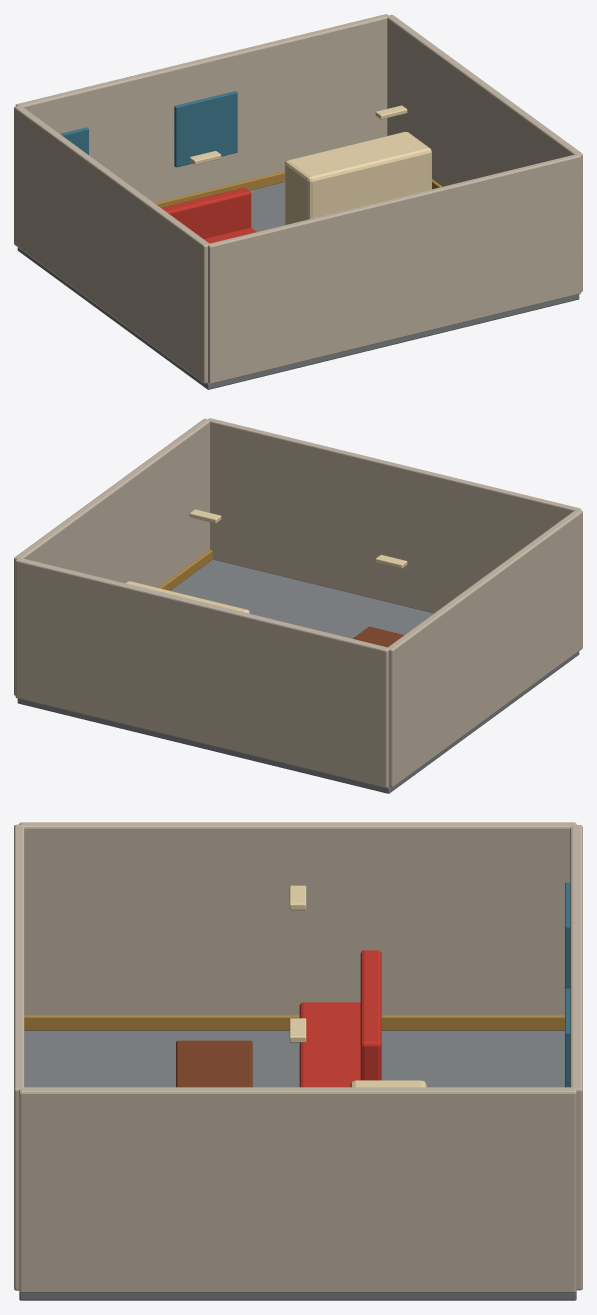
File: apartment_interior_recurring_a.glb
3 views of the same model, one above another, from view 1: azimuth 30°, elevation 25°; view 2: azimuth 150°, elevation 25°; view 3: azimuth 270°, elevation 25° (orthographic). The views are drawn at different scales.
Visible parts, largest first — view 1: CUTAWAY_FRONT, SET_Wall_Back, SET_Wall_Left, SET_Wall_Right, SET_KitchenIsland, SET_Floor, SET_Window_0, PROP_Sofa_Back, SET_Baseboard_Back; view 2: SET_Wall_Back, CUTAWAY_FRONT, SET_Wall_Left, SET_Wall_Right, SET_Floor, SET_Trim_Right, PROP_CoffeeTable, SET_KitchenIsland; view 3: SET_Wall_Right, SET_Wall_Left, SET_Floor, SET_Trim_Left, PROP_Sofa_Base, SET_Wall_Back, CUTAWAY_FRONT, PROP_CoffeeTable, PROP_Sofa_Back, SET_Window_-3.6.
Part boxes in pixels (bbox=[...]): CUTAWAY_FRONT: bbox=[208, 154, 581, 384]; SET_Wall_Back: bbox=[15, 14, 388, 202]; SET_Wall_Left: bbox=[14, 106, 209, 383]; SET_Wall_Right: bbox=[387, 14, 582, 291]; SET_KitchenIsland: bbox=[284, 131, 431, 224]; SET_Floor: bbox=[17, 182, 579, 389]; SET_Window_0: bbox=[174, 91, 237, 167]; PROP_Sofa_Back: bbox=[161, 188, 251, 238]; SET_Baseboard_Back: bbox=[154, 171, 284, 207]; SET_Wall_Back: bbox=[15, 558, 388, 788]; CUTAWAY_FRONT: bbox=[208, 418, 581, 613]; SET_Wall_Left: bbox=[388, 509, 582, 787]; SET_Wall_Right: bbox=[14, 418, 209, 695]; SET_Floor: bbox=[17, 559, 579, 793]; SET_Trim_Right: bbox=[158, 550, 212, 590]; PROP_CoffeeTable: bbox=[353, 626, 403, 647]; SET_KitchenIsland: bbox=[125, 581, 249, 613]; SET_Wall_Right: bbox=[19, 1087, 576, 1292]; SET_Wall_Left: bbox=[19, 822, 576, 1014]; SET_Floor: bbox=[19, 1030, 576, 1300]; SET_Trim_Left: bbox=[24, 1015, 564, 1030]; PROP_Sofa_Base: bbox=[299, 1002, 360, 1087]; SET_Wall_Back: bbox=[570, 825, 582, 1290]; CUTAWAY_FRONT: bbox=[14, 824, 24, 1290]; PROP_CoffeeTable: bbox=[176, 1040, 252, 1087]; PROP_Sofa_Back: bbox=[360, 950, 381, 1080]; SET_Window_-3.6: bbox=[565, 882, 570, 988].
Size of what is drawn, in the model's own units: 9.18 by 3.36 by 8.17.
